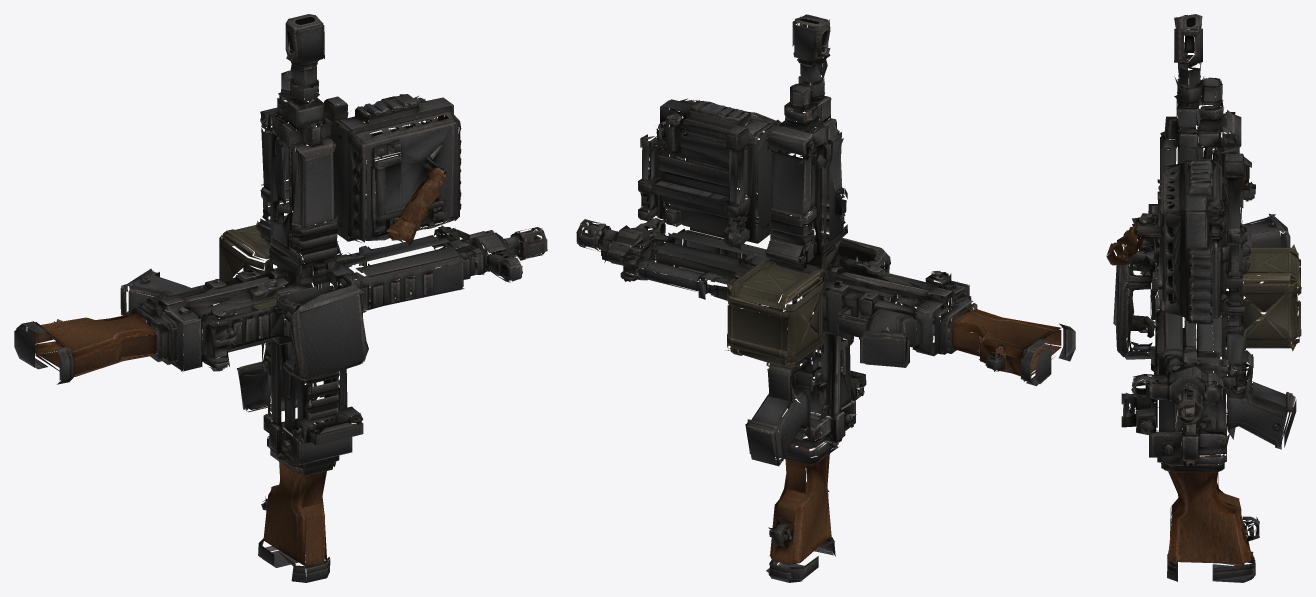
The picture shows the model from 3 angles, left to right: view 1: azimuth 30°, elevation 25°; view 2: azimuth 150°, elevation 25°; view 3: azimuth 270°, elevation 25°; orthographic projection. The views are drawn at different scales.
Parts seen in each view (by area): view 1: tripo_node_62b8c736-ddd6-4685-836f-d13a76e097a6; view 2: tripo_node_62b8c736-ddd6-4685-836f-d13a76e097a6; view 3: tripo_node_62b8c736-ddd6-4685-836f-d13a76e097a6.
Boxes of the visible parts, x1,y1,x2,y2 form: tripo_node_62b8c736-ddd6-4685-836f-d13a76e097a6: (14,14,547,582); tripo_node_62b8c736-ddd6-4685-836f-d13a76e097a6: (576,14,1075,582); tripo_node_62b8c736-ddd6-4685-836f-d13a76e097a6: (1106,14,1301,582).
Size of the model in its own units: 0.9768 by 1.04 by 0.3357.
Materials: 1 (1 with a texture image).
